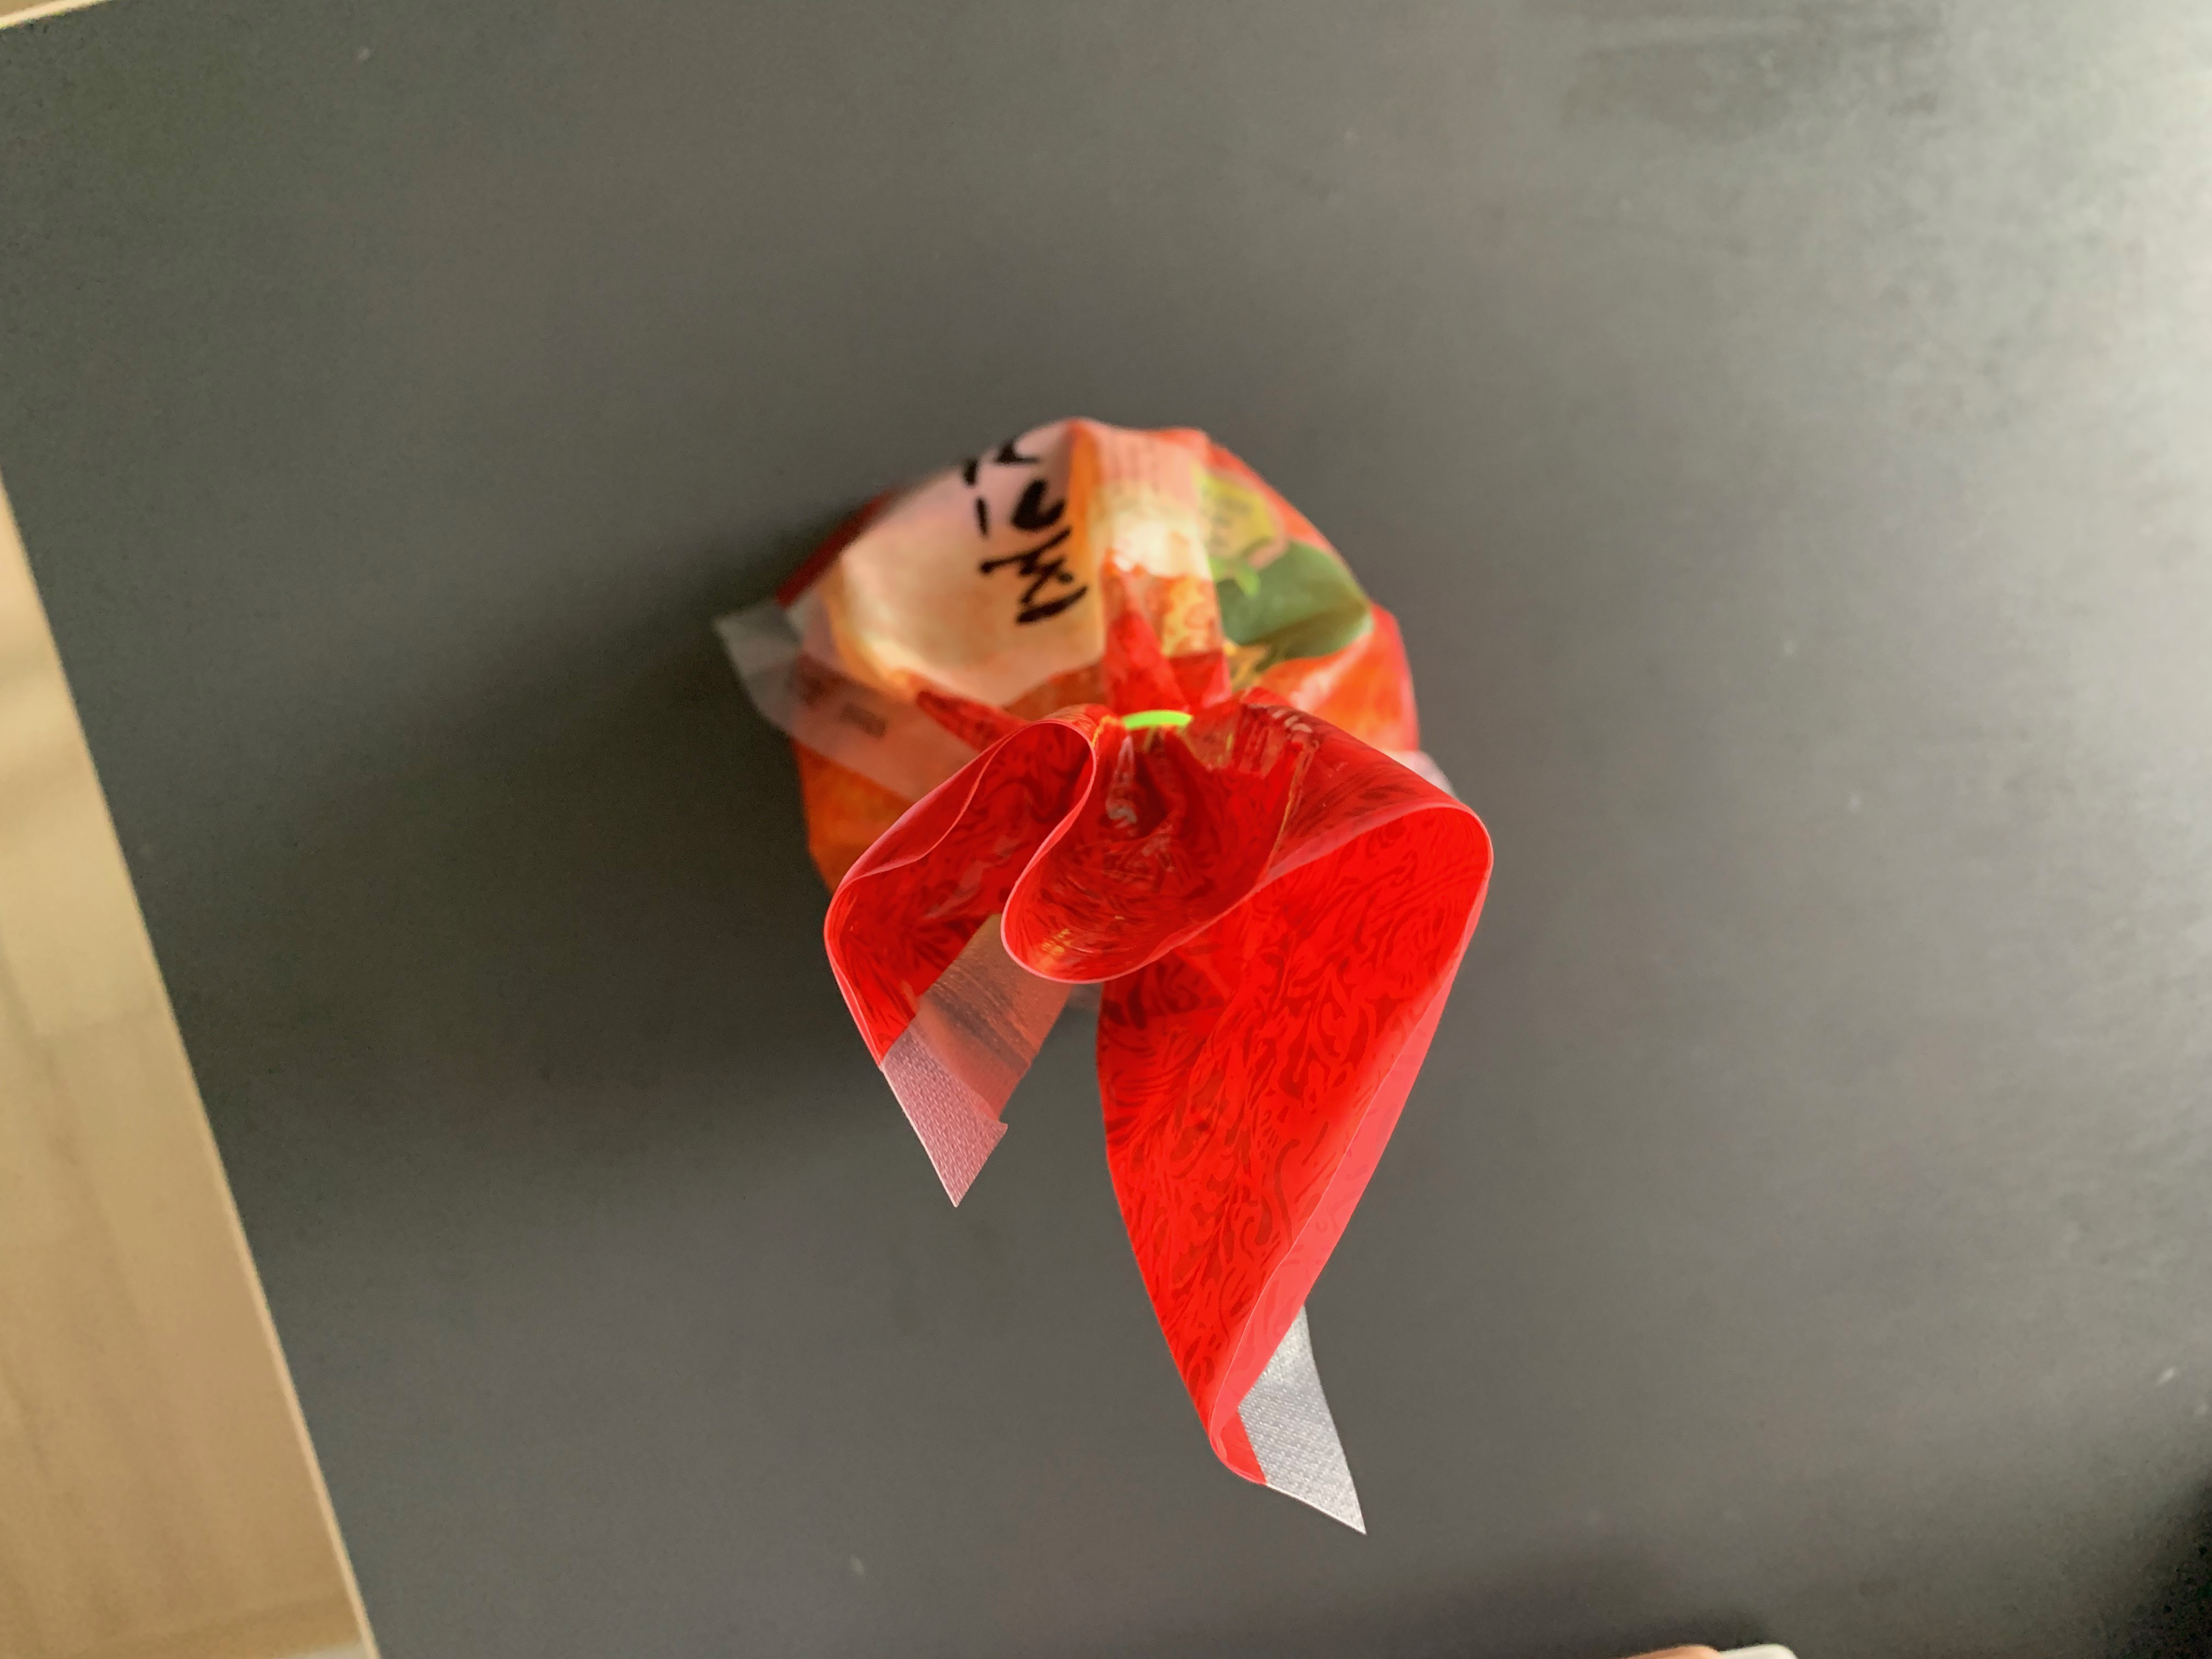kimchi: (770, 410, 1494, 1436)
